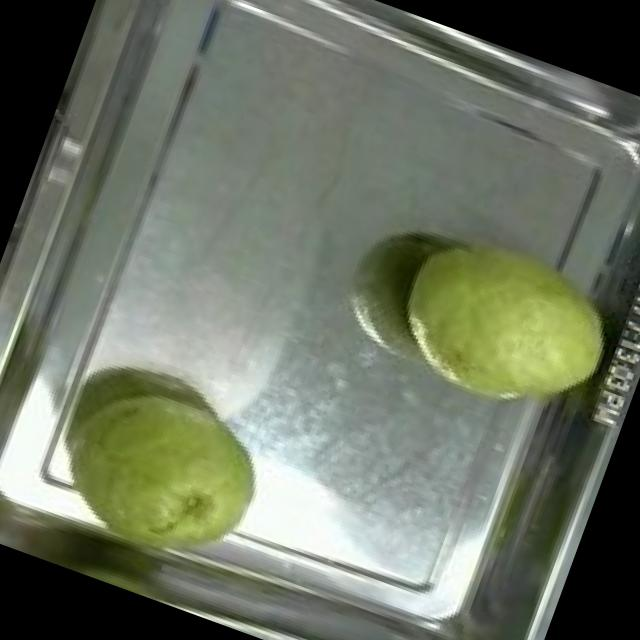Fruit: (13, 338, 298, 596), (369, 197, 640, 449)
